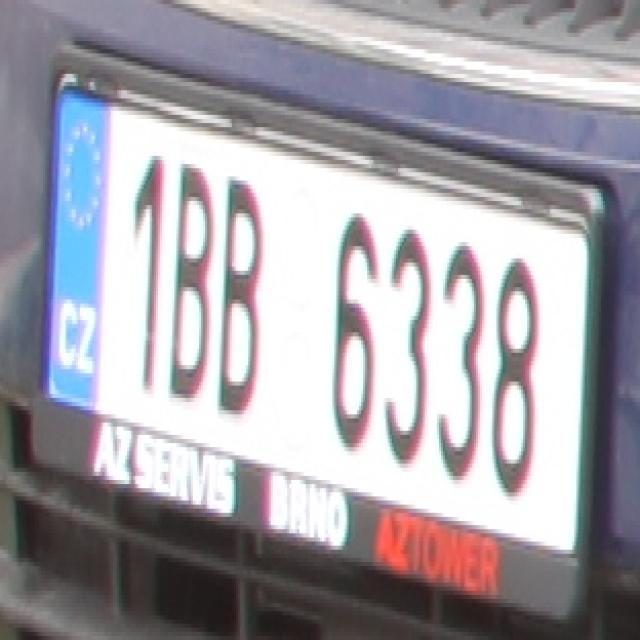1: (129, 148, 162, 398)
3: (383, 226, 432, 472), (437, 238, 484, 492)
6: (328, 210, 378, 456)
8: (491, 250, 544, 505)
B: (166, 160, 213, 402), (220, 168, 266, 414)
